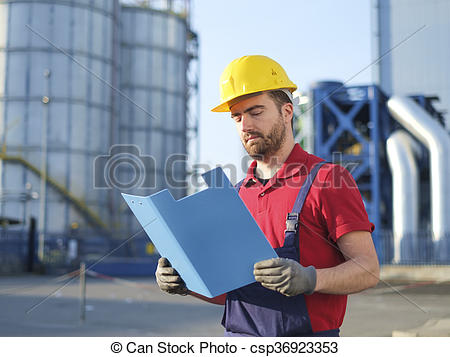casco: (209, 54, 299, 113)
